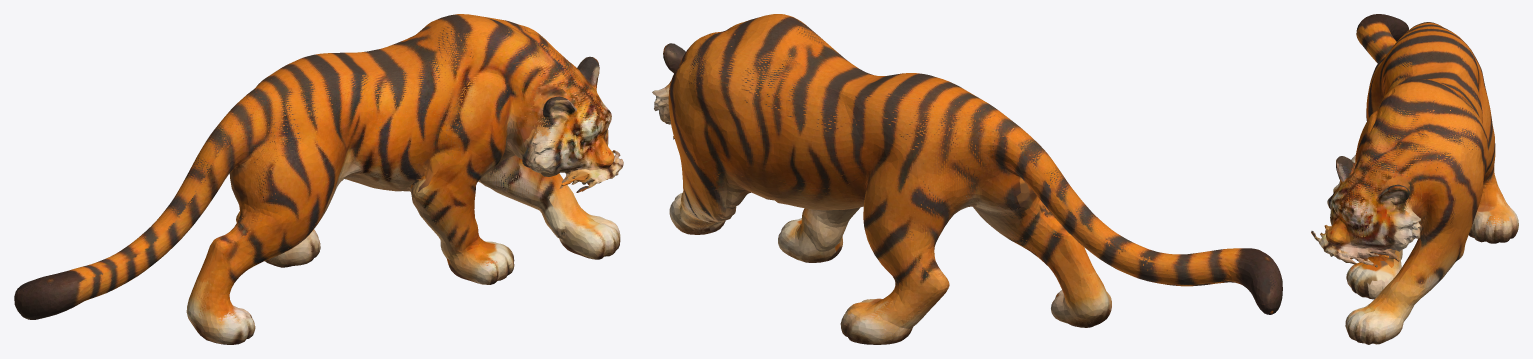
File: foe_tiger.glb
3 renders of one model, left to right at view 1: azimuth 30°, elevation 25°; view 2: azimuth 150°, elevation 25°; view 3: azimuth 270°, elevation 25°, orthographic. The views are drawn at different scales.
Parts seen in each view (by area): view 1: temp_mesh.ply; view 2: temp_mesh.ply; view 3: temp_mesh.ply.
Part boxes in pixels (bbox=[...]): temp_mesh.ply: bbox=[14, 14, 623, 344]; temp_mesh.ply: bbox=[652, 14, 1282, 344]; temp_mesh.ply: bbox=[1311, 14, 1518, 344].
Bounding box in the file's own units: 1.97 × 0.7643 × 0.685.
1 material, 1 textured.
